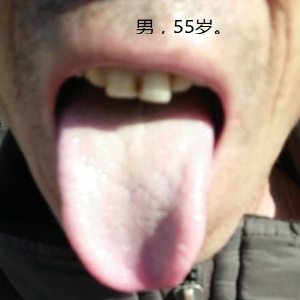st: (54, 117, 216, 292)
